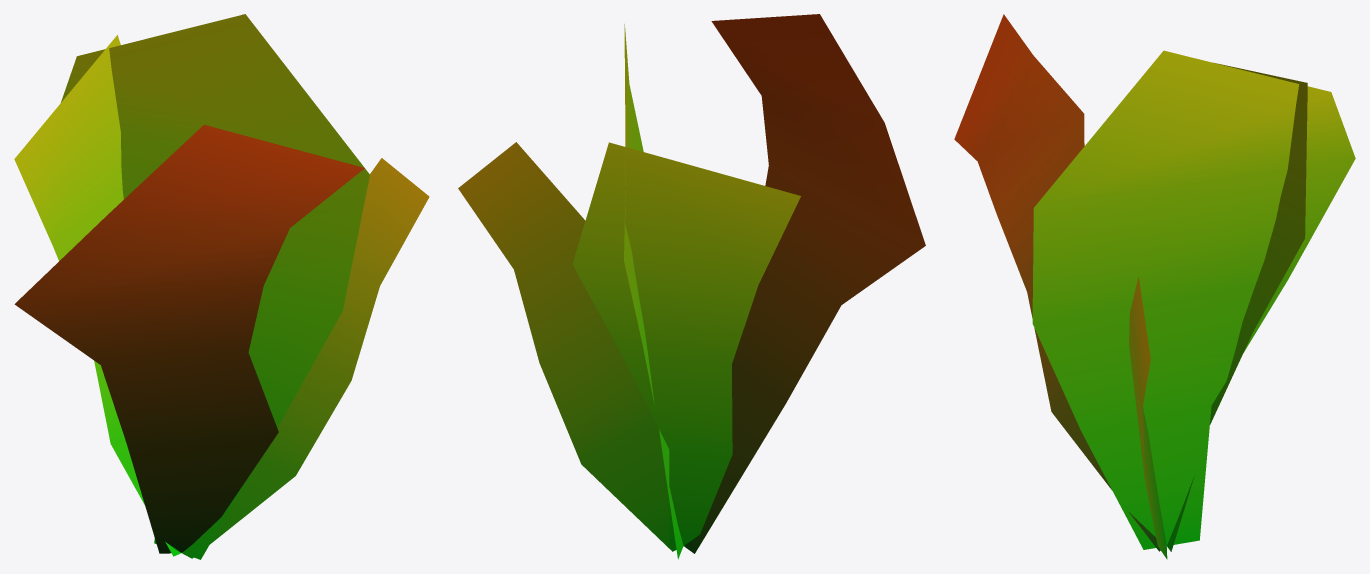
The model's file is Ocean Seaweed_LOD0_Var4_sdDgS.fbx.
3 views of the same model, side by side, from view 1: azimuth 30°, elevation 25°; view 2: azimuth 150°, elevation 25°; view 3: azimuth 270°, elevation 25° (orthographic). The views are drawn at different scales.
Parts seen in each view (by area): view 1: _ua0m_Var4_LOD0; view 2: _ua0m_Var4_LOD0; view 3: _ua0m_Var4_LOD0.
Boxes of the visible parts, box(x1,y1,x2,y2) form: _ua0m_Var4_LOD0: box(14, 14, 429, 559); _ua0m_Var4_LOD0: box(458, 14, 925, 559); _ua0m_Var4_LOD0: box(954, 14, 1355, 559).
Size of the model in its own units: 29.36 by 33.38 by 22.72.
